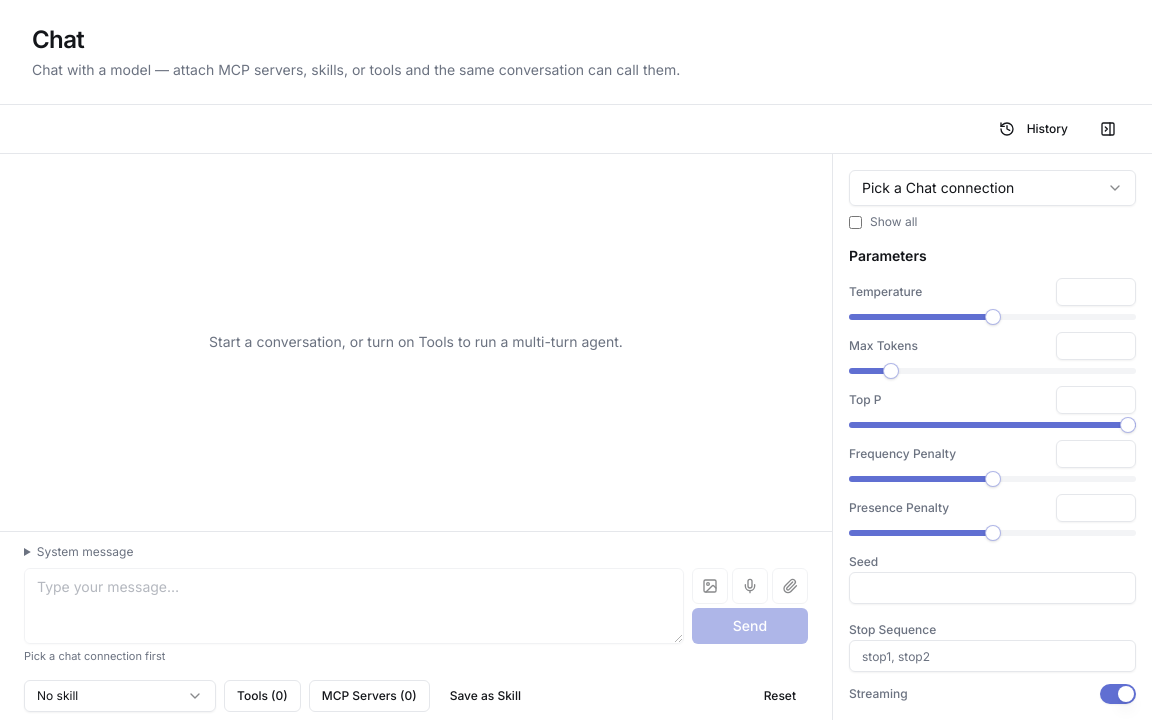
Test: AgentPage › multi-turn chat: sends accumulate + carry context › Regenerate drops the last answer and re-runs the last user turn
Click the dropdown labelled "Pick a Chat connection" at (992, 188), box [849,170,1136,206]
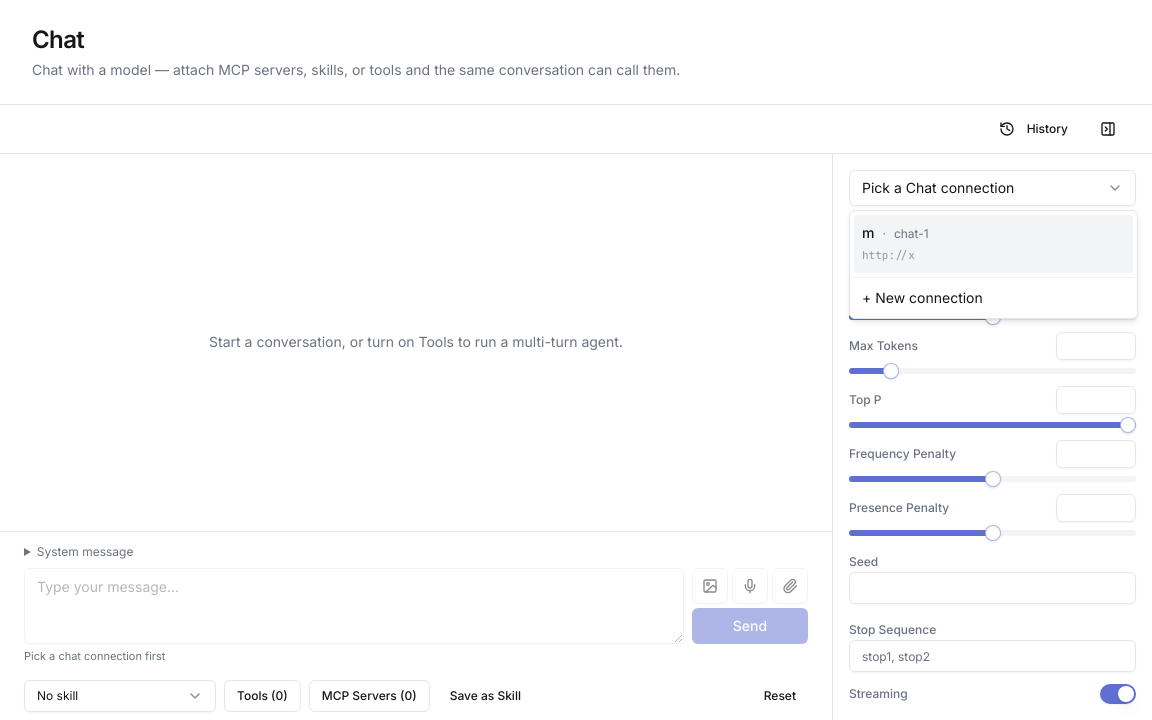
Click the option "m · chat-1 http://x" at (911, 234), box [854,215,1133,273]
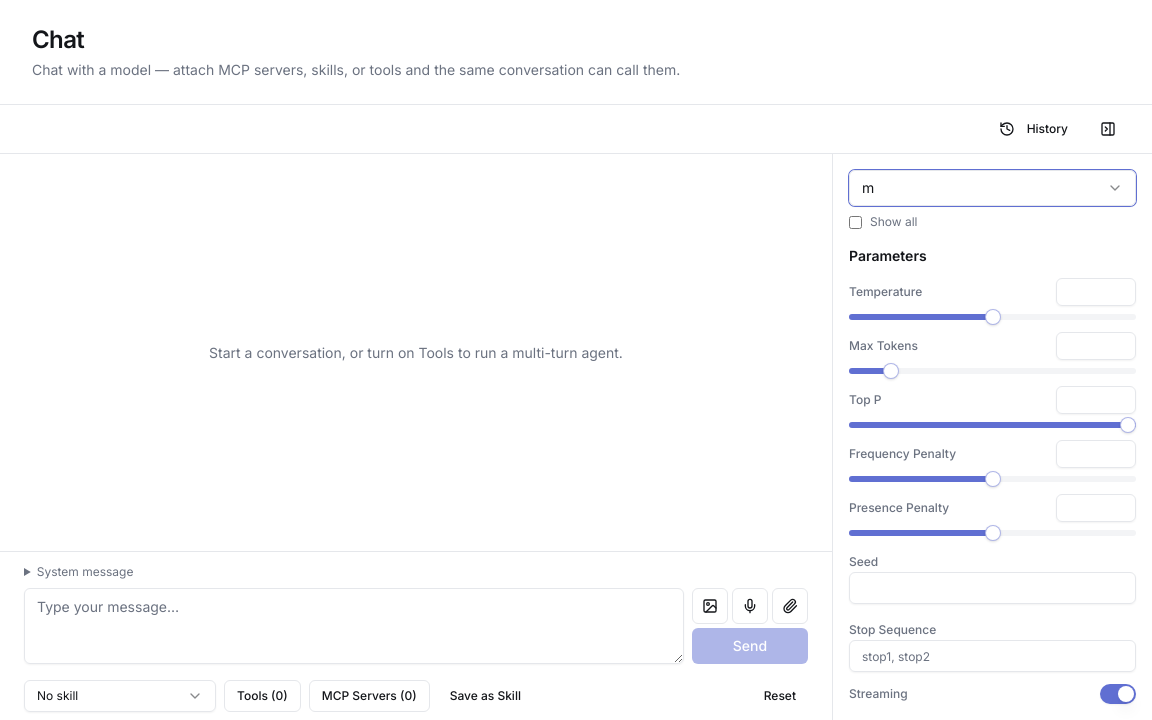
Type "tell me a joke" into the text box with placeholder "Type your message…" at (354, 626), box [24,588,684,664]
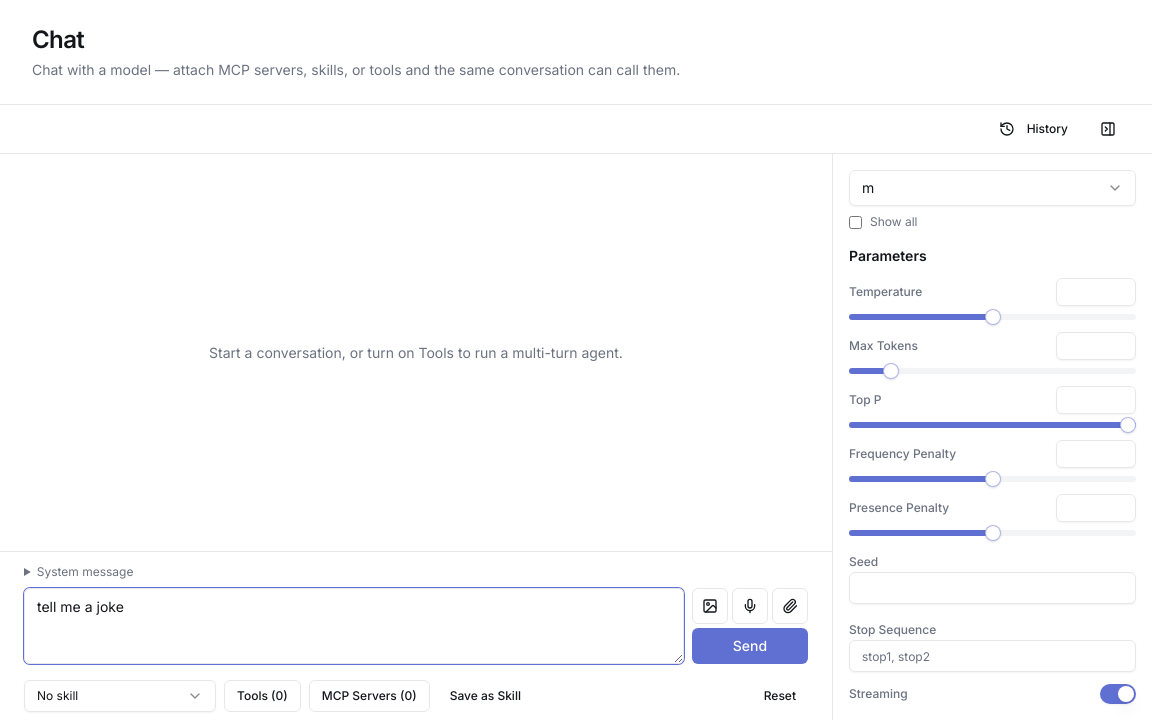
Click the button "Send" at (750, 646), box [692,628,808,664]
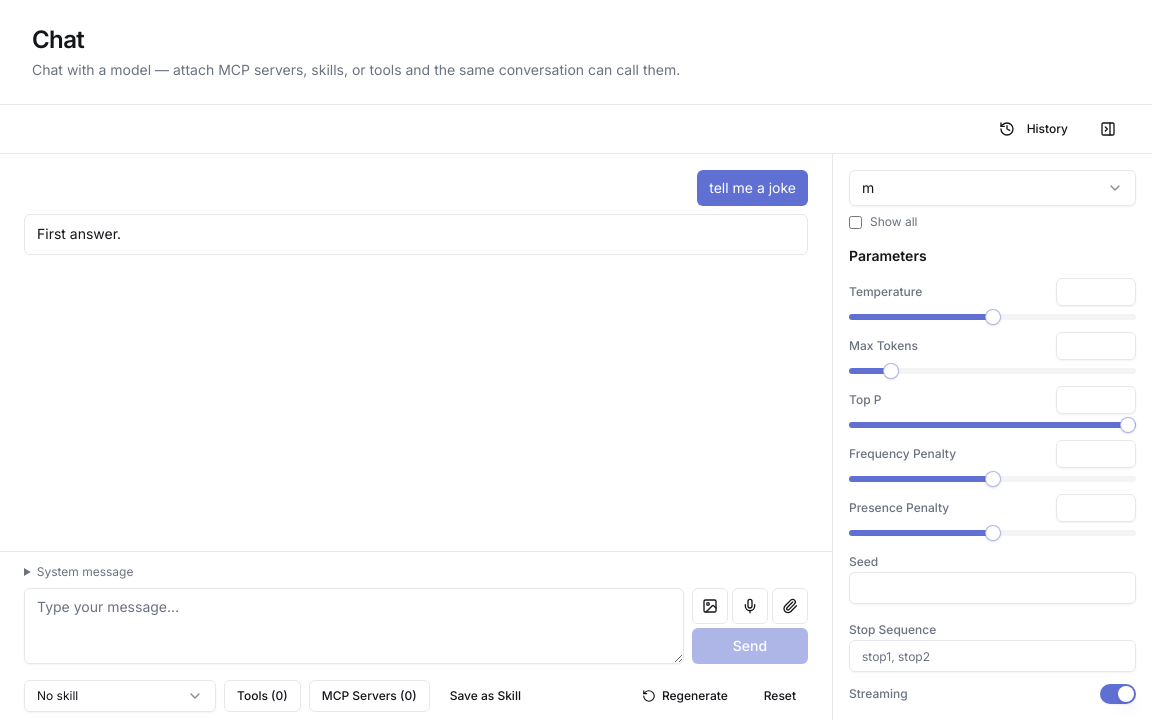
Now the text "First answer." is shown, box [37,225,121,242]
Click the button "Regenerate" at (685, 696), box [630,680,740,712]
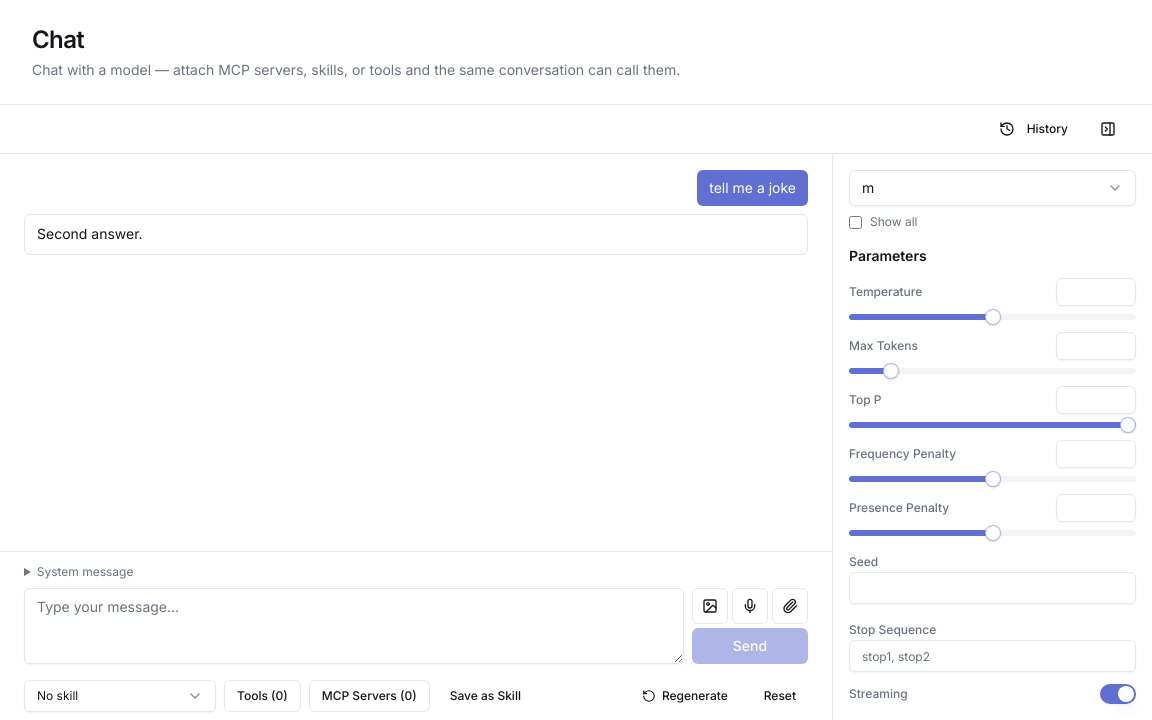
Now the number of elements with test id "user-bubble" is 1, box [697,170,808,206]
Now the text "Second answer." is shown, box [37,225,143,242]
Now the text "First answer." is gone
